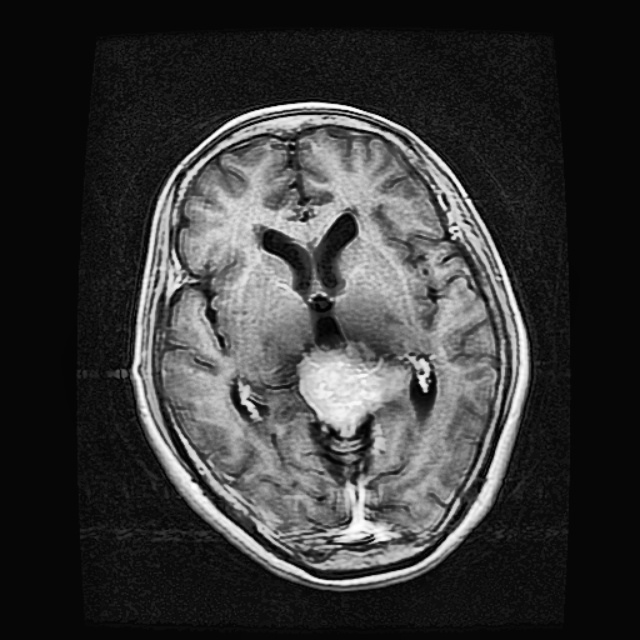Glioma: (298, 338, 409, 434)
